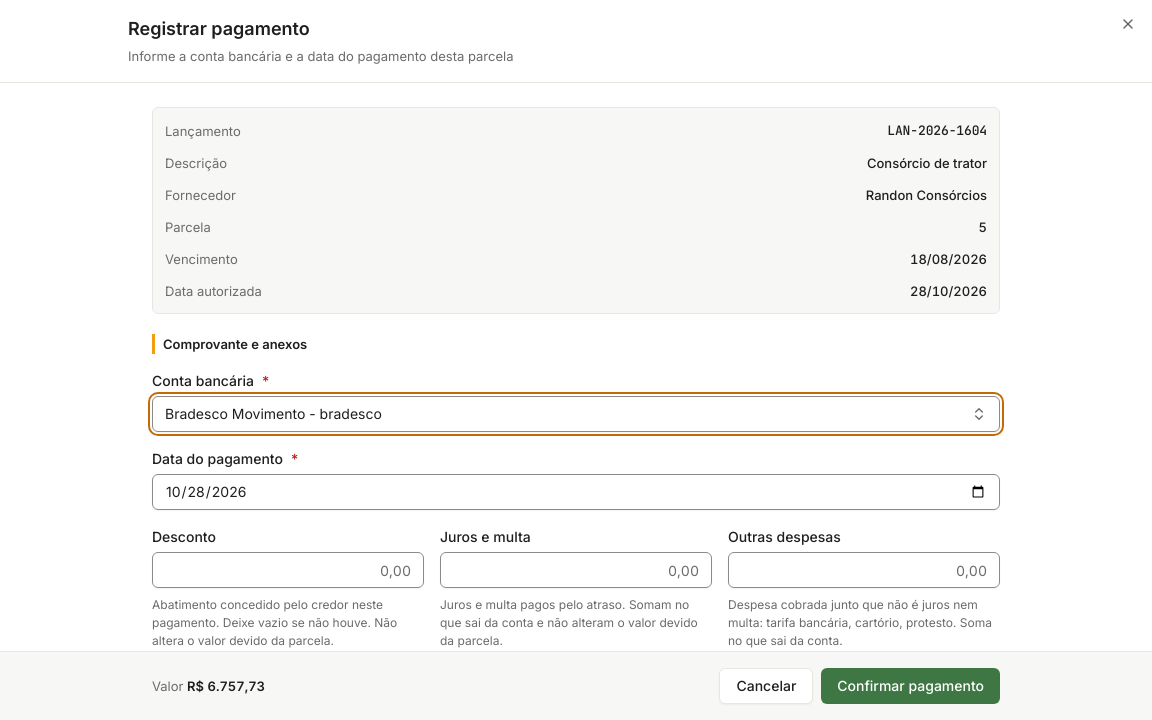
Test: PagarParcelaDrawer, os três ajustes do pagamento › o rodapé mostra o líquido composto antes de confirmar
The width and height of the screenshot is (1152, 720).
Type "42,27" into the field labelled "Juros e multa". click: x=576, y=570
box: [440,552,712,588]
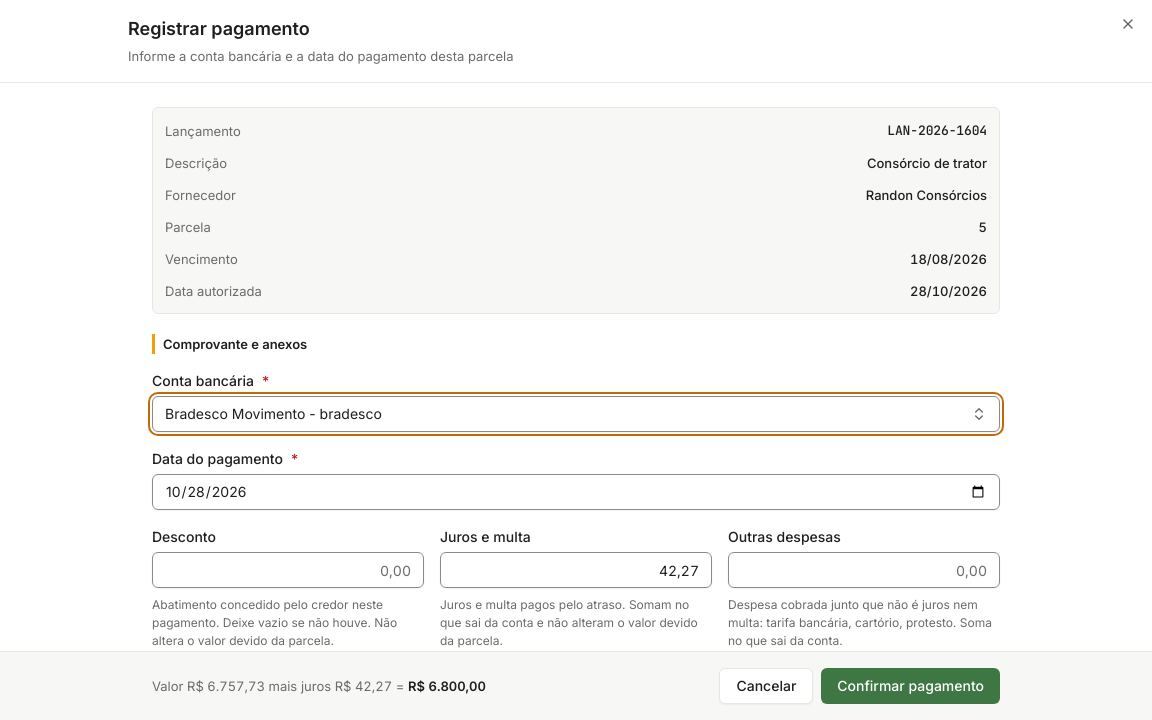
Type "10,00" into the field labelled "Outras despesas". click: x=864, y=570
box: [728,552,1000,588]
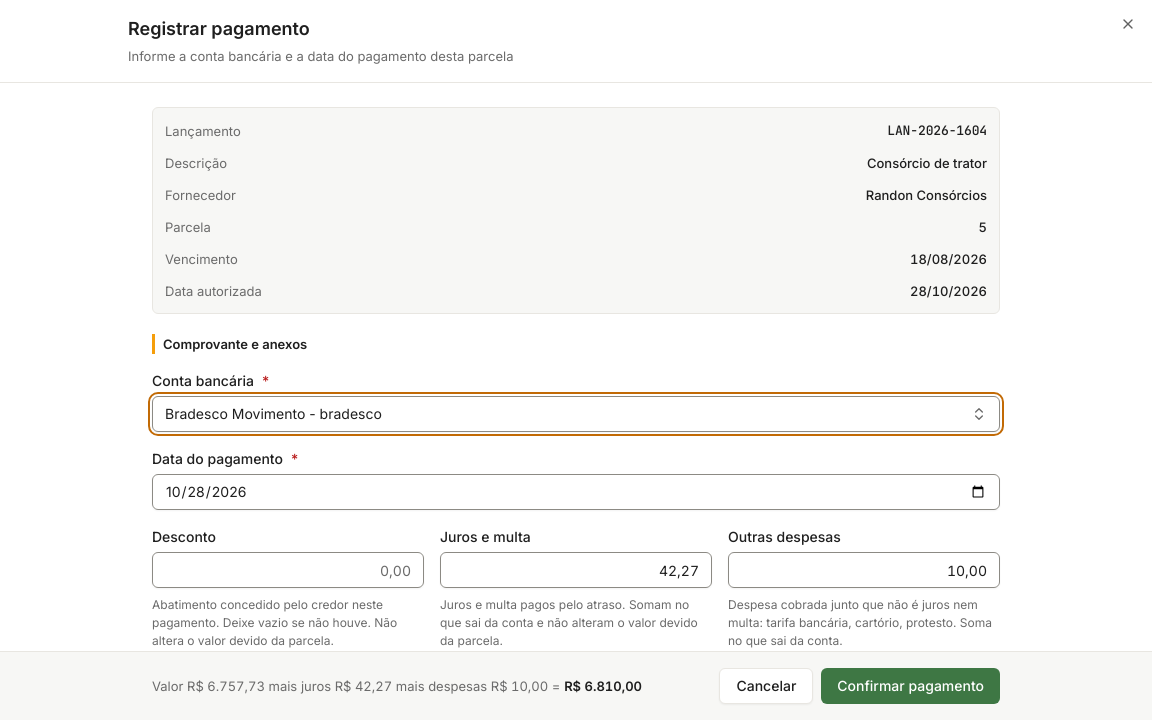
Expected: the text "mais juros" is shown, [268,678,331,694]
Expected: the text "mais despesas" is shown, [396,678,487,694]
Expected: the text "R$ 6.810,00" is shown, [564,678,642,694]
